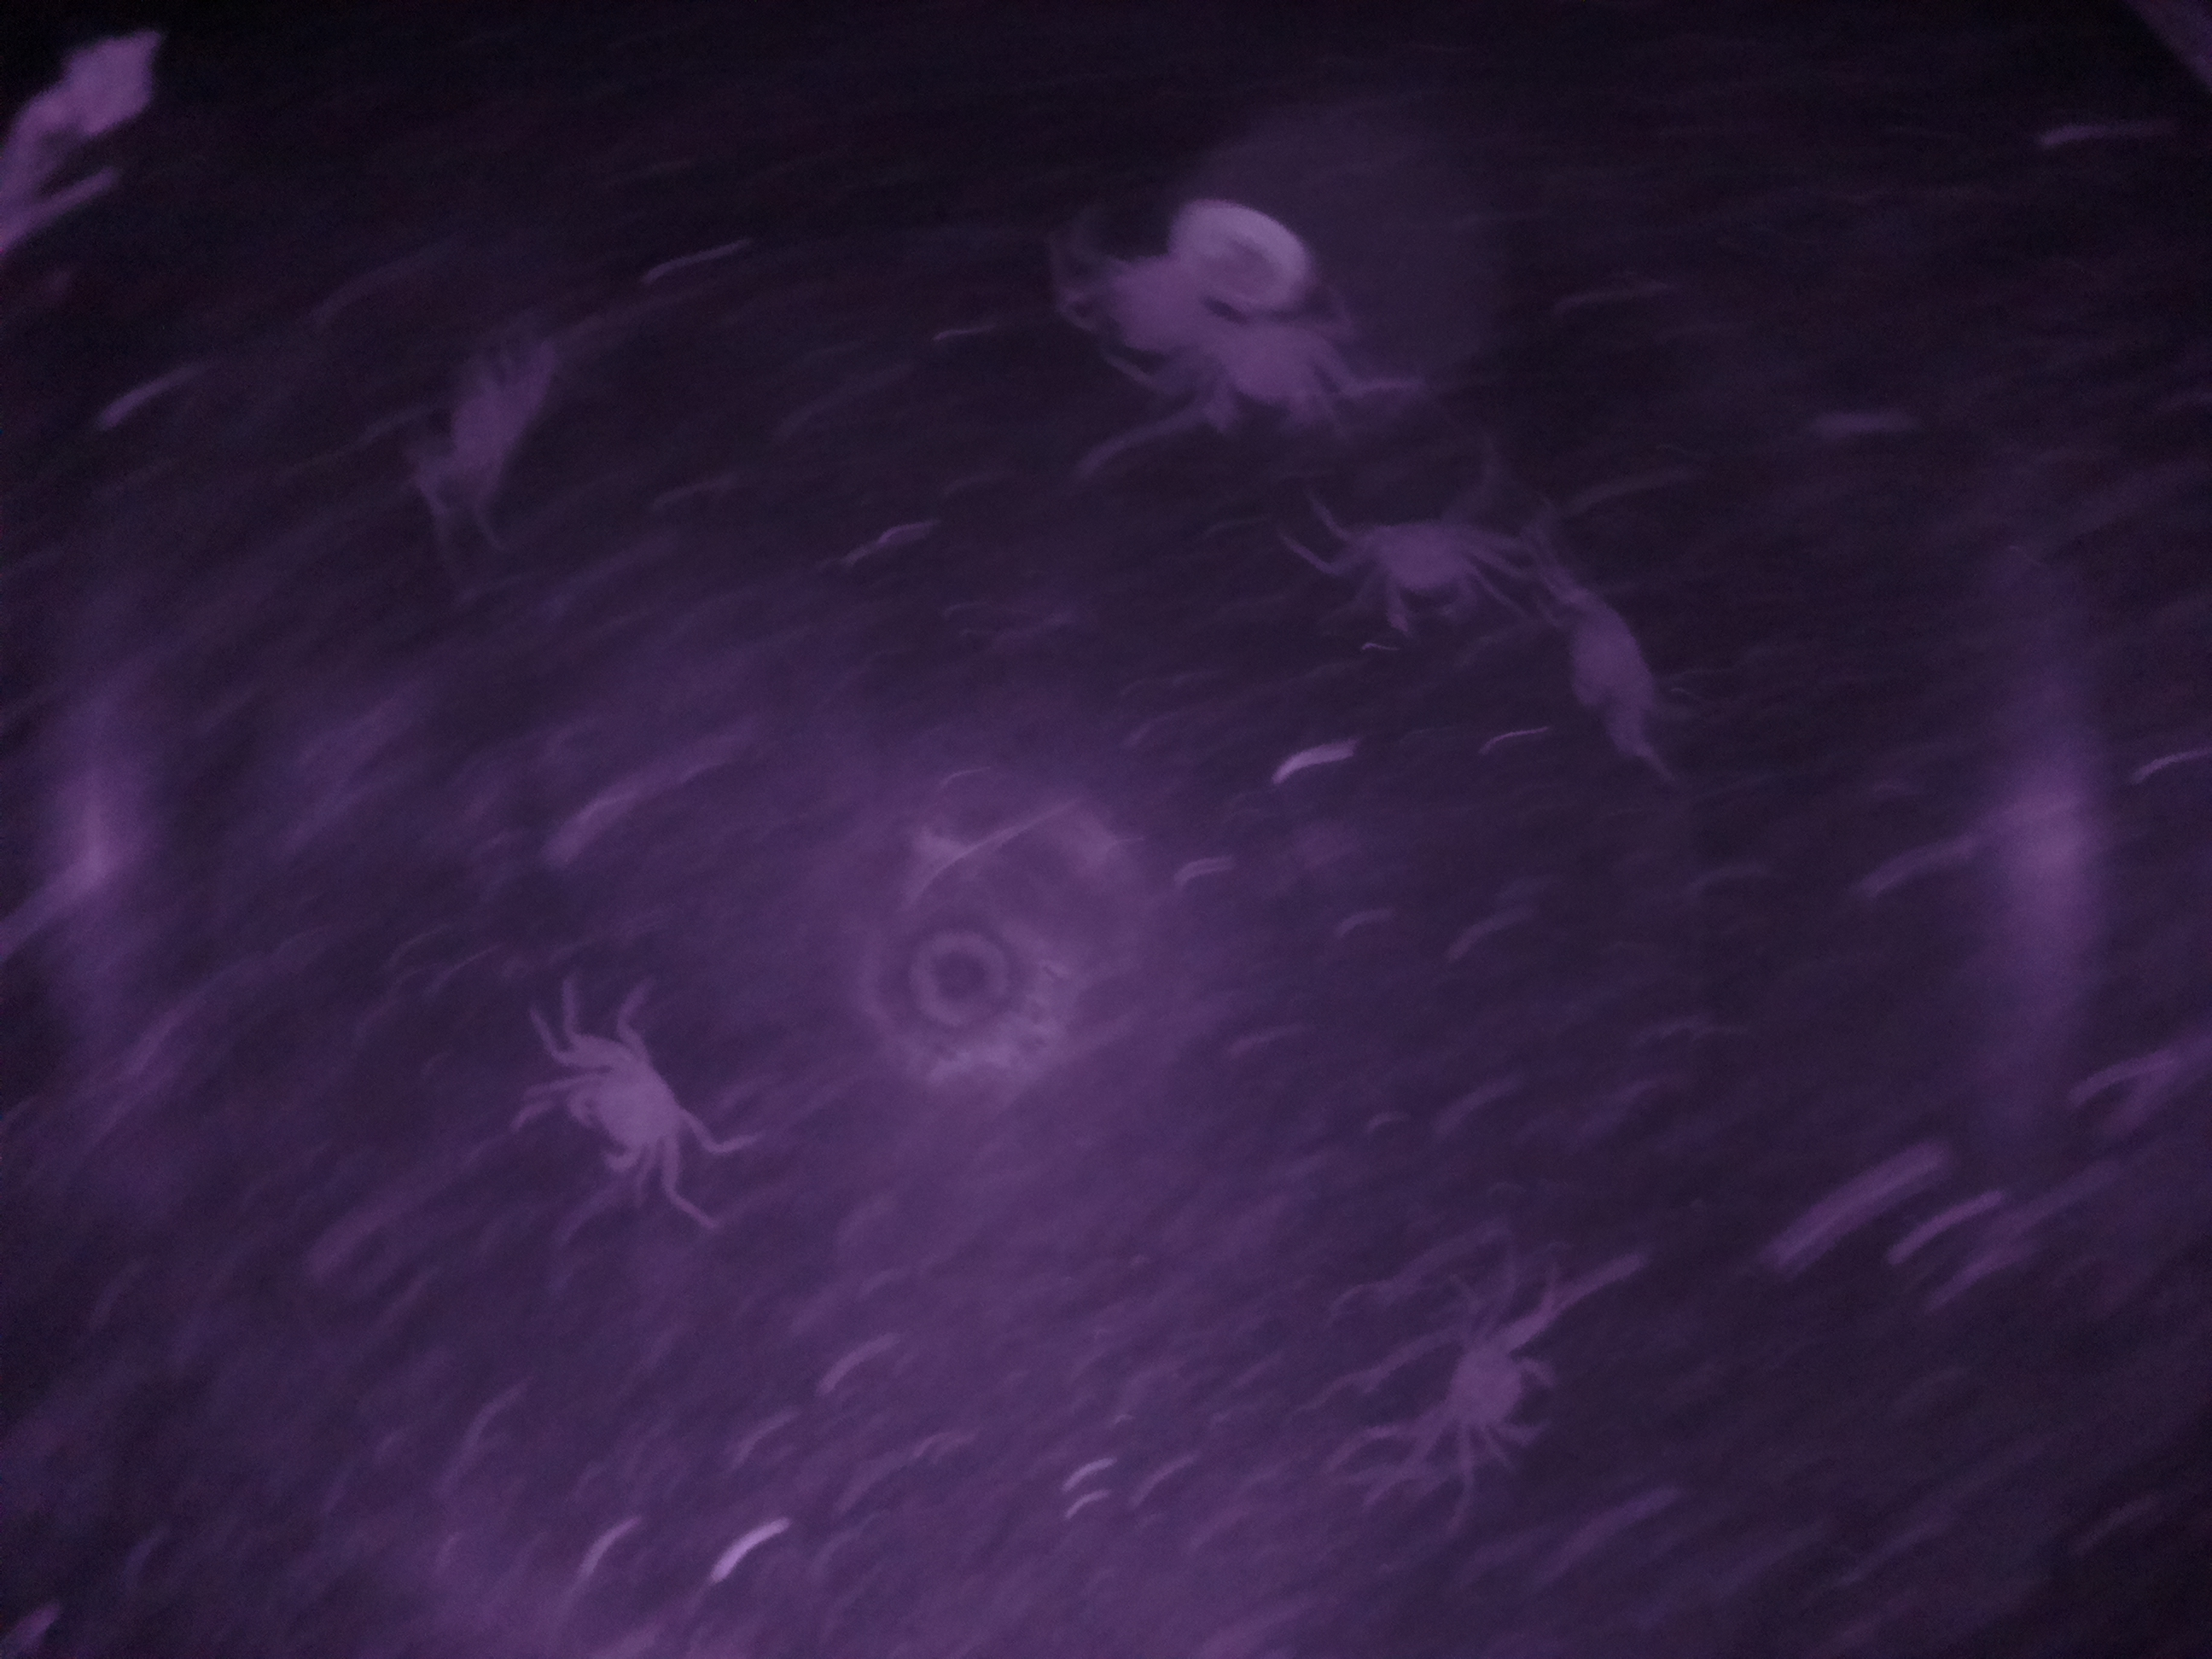Crab: (526, 1011, 763, 1244)
